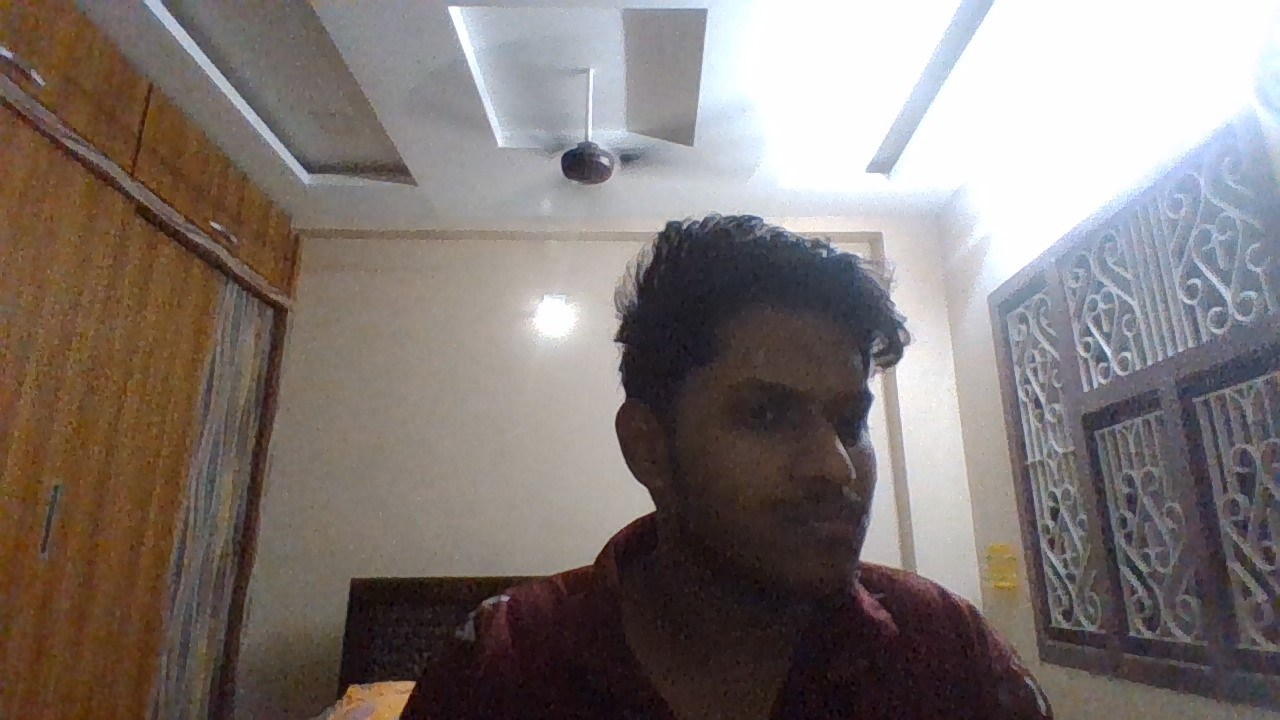person: (476, 153, 962, 720)
